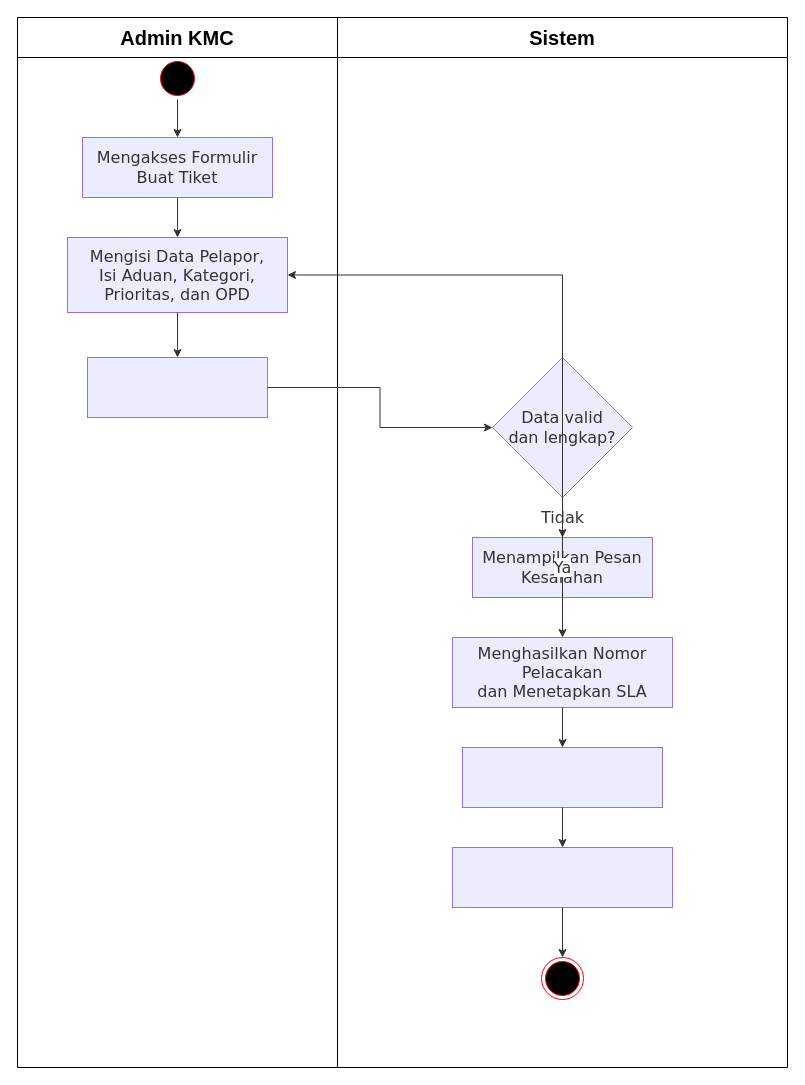
Some shapes in this 805 by 1085 pixel diagram are drawn without their labels. Each missing label, with the centre of its shape:
"Menekan Tombol Simpan" goes at [177,387].
"Meneruskan Tiket ke Dashboard OPD Tujuan" goes at [562,877].
"Menyimpan Data Tiket ke Basis Data" goes at [562,777].
